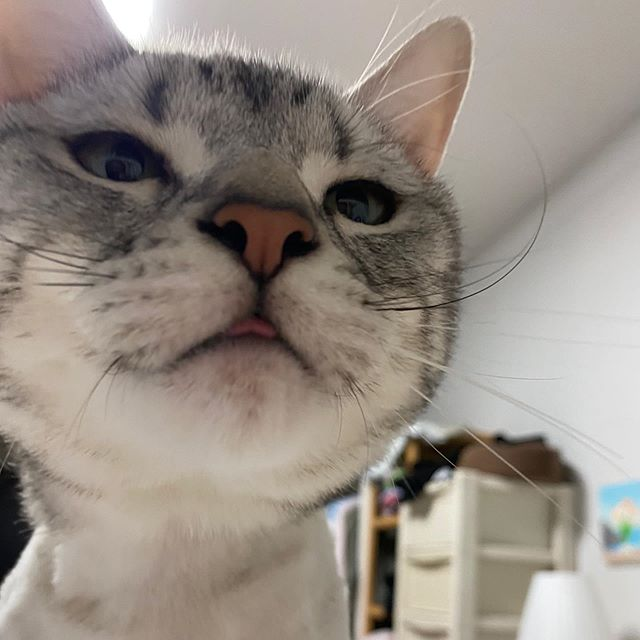cat: (3, 1, 479, 484)
